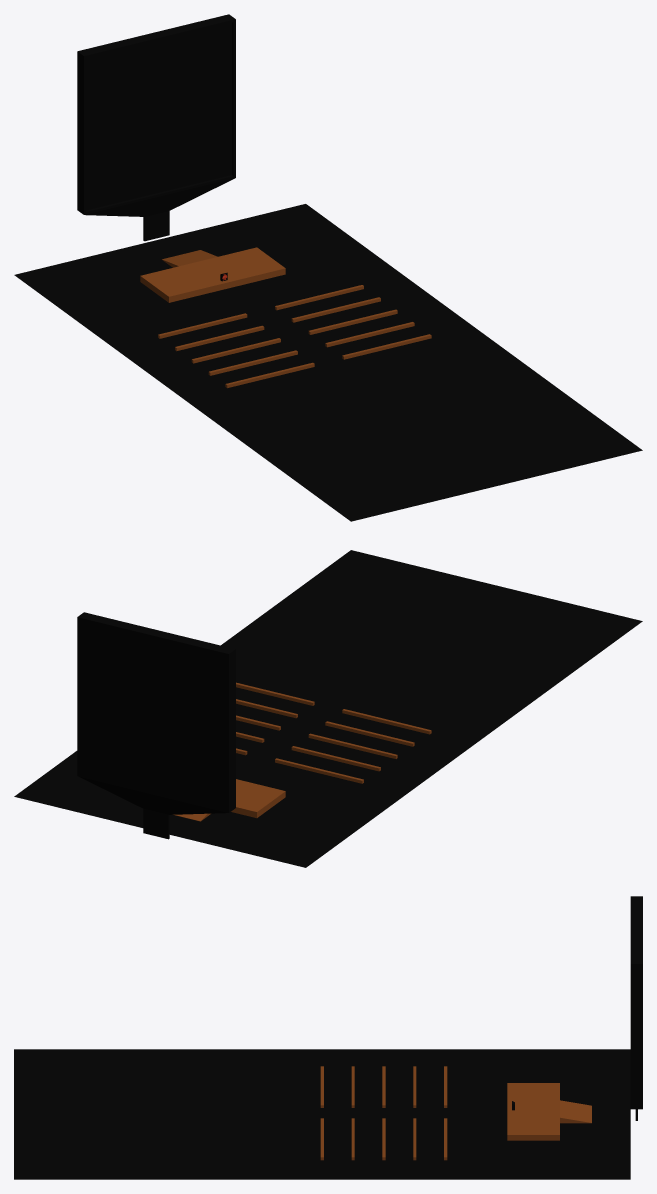
3 renders of one model, top to bottom at view 1: azimuth 30°, elevation 25°; view 2: azimuth 150°, elevation 25°; view 3: azimuth 270°, elevation 25°, orthographic. The views are drawn at different scales.
Visible parts, largest first — view 1: floor, screen, platform; view 2: floor, screen, platform, bench1.006, bench1.002, bench1.008, bench1.004, bench1; view 3: floor, platform, screen.
Boxes of the visible parts, x1,y1,x2,y2 form: floor: [14, 204, 642, 521]; screen: [77, 14, 235, 241]; platform: [140, 247, 285, 302]; floor: [14, 550, 642, 867]; screen: [77, 612, 235, 839]; platform: [173, 779, 285, 821]; bench1.006: [325, 721, 414, 746]; bench1.002: [291, 746, 380, 771]; bench1.008: [342, 709, 431, 734]; bench1.004: [308, 733, 397, 758]; bench1: [275, 758, 363, 783]; floor: [14, 1049, 630, 1179]; platform: [507, 1083, 591, 1140]; screen: [630, 896, 642, 1120].
Size of the model in its own units: 50 by 33.17 by 102.
3 materials, 1 textured.
